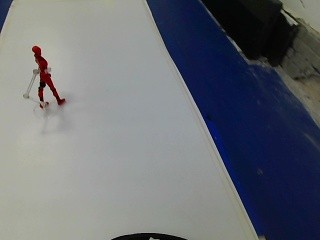pedestrian: (22, 43, 71, 111)
